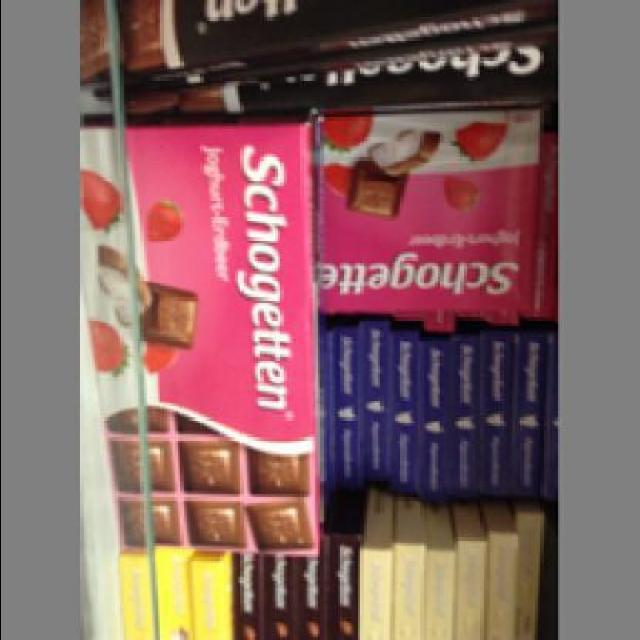Chocolate bar: (83, 120, 320, 551), (317, 106, 546, 326)
